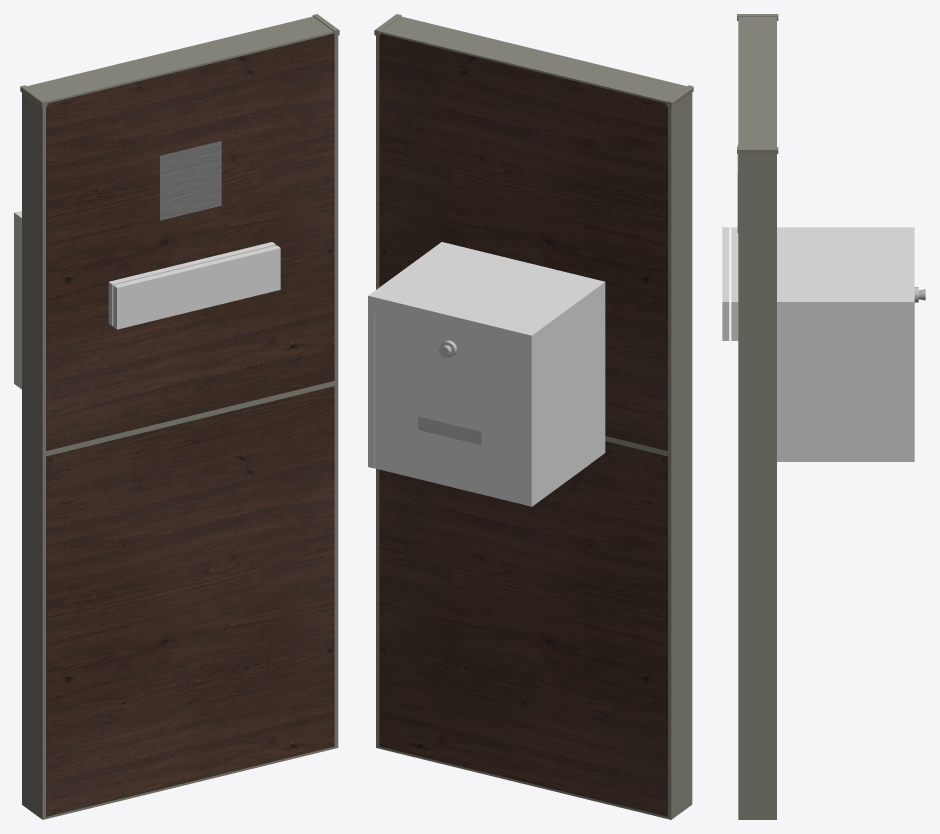
Rendered from abunitgatewallpost1h1600.fbx.
The picture shows the model from 3 angles, left to right: view 1: azimuth 30°, elevation 25°; view 2: azimuth 150°, elevation 25°; view 3: azimuth 270°, elevation 25°; orthographic projection. The views are drawn at different scales.
Visible parts, largest first — view 1: abunitgatewallpost1h1600; view 2: abunitgatewallpost1h1600; view 3: abunitgatewallpost1h1600.
Part boxes in pixels (box(x1,y1,x2,y2)): abunitgatewallpost1h1600: box(14, 14, 339, 819); abunitgatewallpost1h1600: box(368, 14, 693, 819); abunitgatewallpost1h1600: box(722, 14, 925, 819).
Bounding box in the file's own units: 70.9 × 164 × 44.9.
